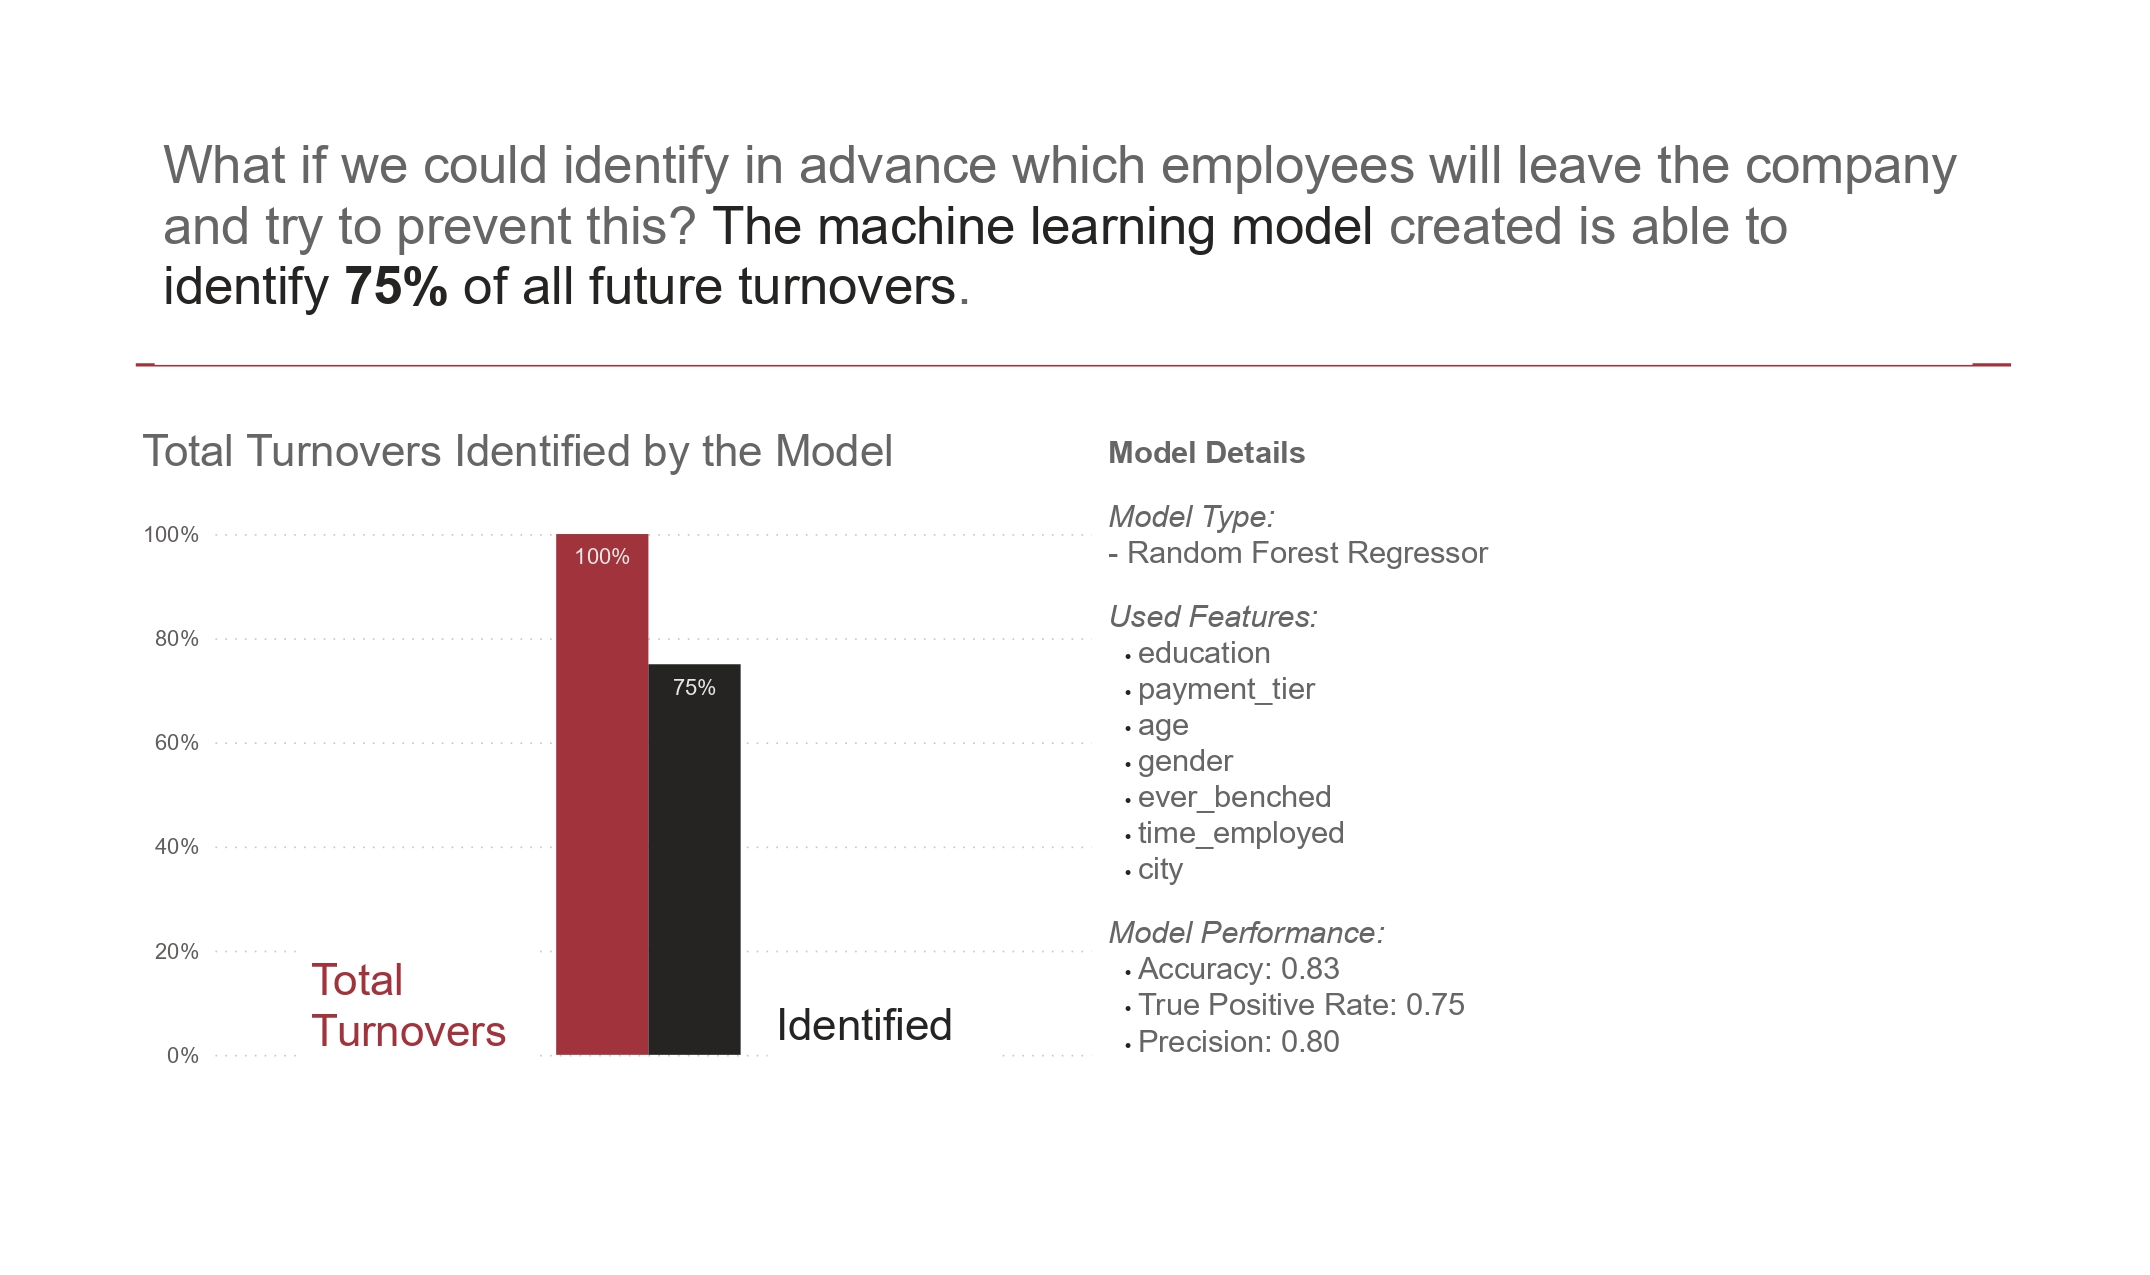

What the dashboard file says about the page in this screenshot:
{"tool":"powerbi","page":{"name":"Página 5","canvas":[1280,720],"ordinal":4},"visuals":[{"type":"shape","box":[67.5,175.3,1142.5,37.4],"z":0},{"type":"textbox","box":[79,48.9,1108,145.1],"z":1},{"type":"clusteredColumnChart","title":"Total Turnovers Identified by the Model","fields":{"Y":["Employee.ahundred","Employee.75_percent"]},"box":[66.1,231.4,589.2,396.6],"z":2},{"type":"textbox","box":[655.3,231.4,554.7,396.6],"z":3},{"type":"textbox","box":[452.7,576.3,142.3,46],"z":4},{"type":"textbox","box":[169.6,549,142.3,79],"z":5}]}

Visuals, with their boxes on the page's 1280x720 design canvas (x1, y1, x2, y2). These are canvas units, not pixel positions in the 2150x1275 screenshot, which may show the page scaled, cropped or inside an application window:
shape: <box>68,175,1210,213</box>
textbox: <box>79,49,1187,194</box>
"Total Turnovers Identified by the Model" clusteredColumnChart: <box>66,231,655,628</box>
textbox: <box>655,231,1210,628</box>
textbox: <box>453,576,595,622</box>
textbox: <box>170,549,312,628</box>
